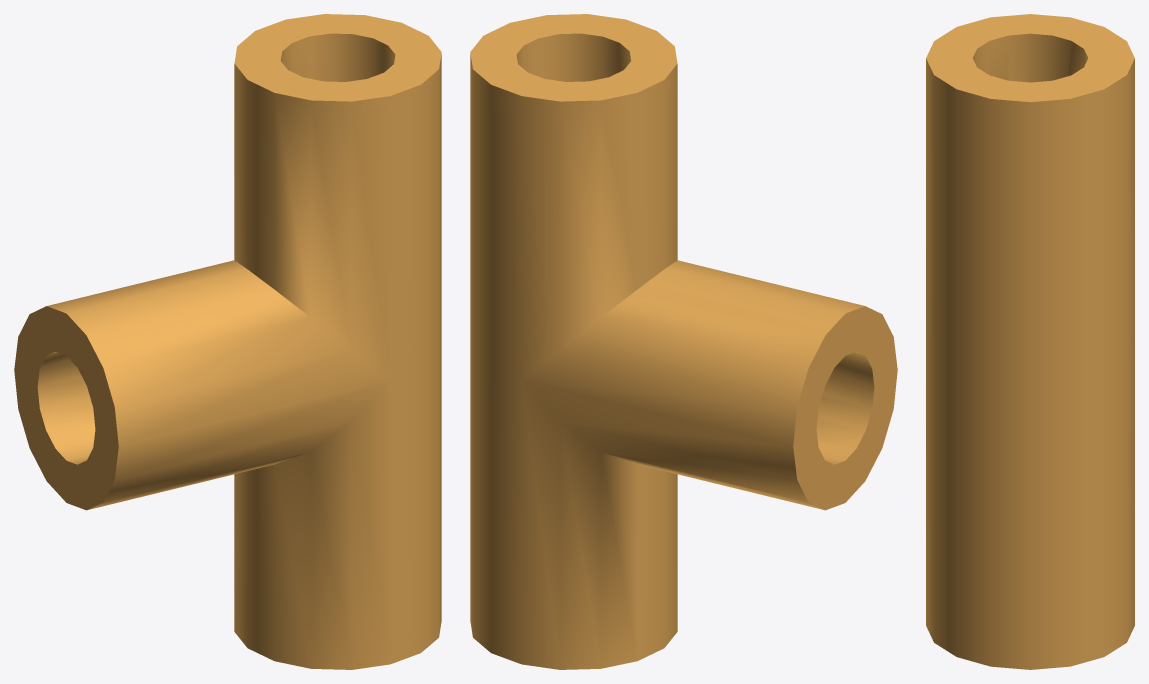
The model's file is Joint_Tee.fbx.
3 views of the same model, side by side, from view 1: azimuth 30°, elevation 25°; view 2: azimuth 150°, elevation 25°; view 3: azimuth 270°, elevation 25° (orthographic).
Visible parts, largest first — view 1: Joint_Tee; view 2: Joint_Tee; view 3: Joint_Tee.
Part boxes in pixels (x1,y1,x2,y2): Joint_Tee: (14,14,441,669); Joint_Tee: (470,14,897,669); Joint_Tee: (926,14,1134,669).
Bounding box in the file's own units: 224 × 336 × 112.
